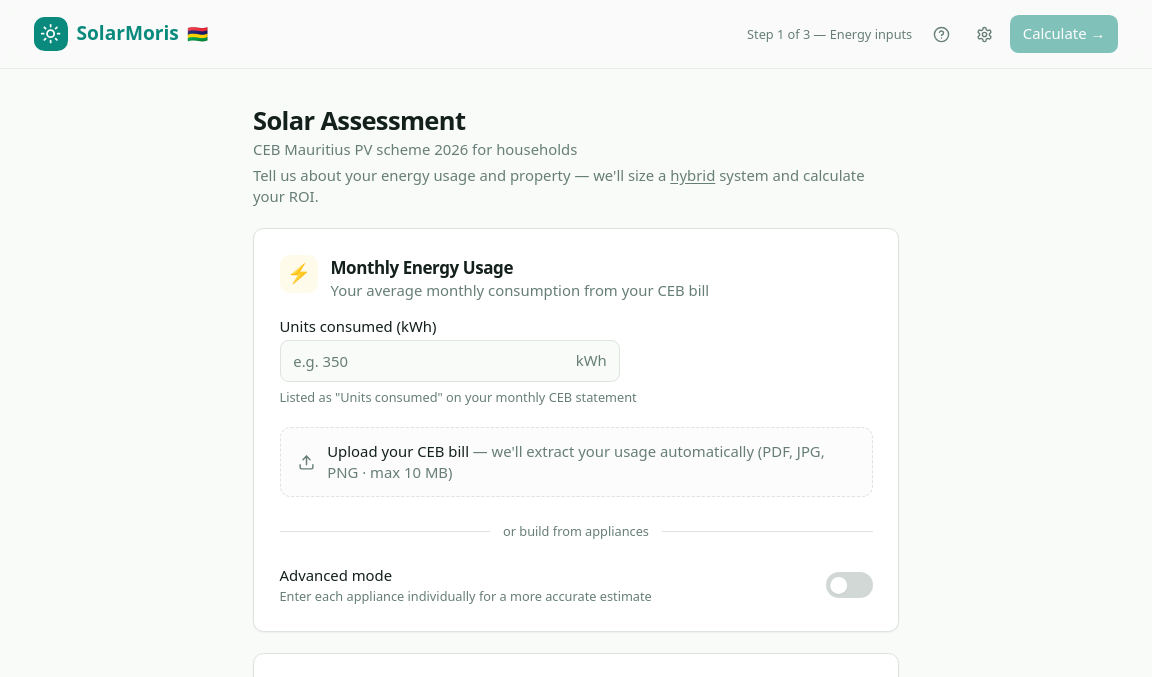
Test: DashboardPage — API error handling › shows a calculation error message when api.calculate rejects
Type "350" into the number field labelled "Units consumed (kWh)". click: (450, 361)
box: [280,340,620,382]
(page scrolled)
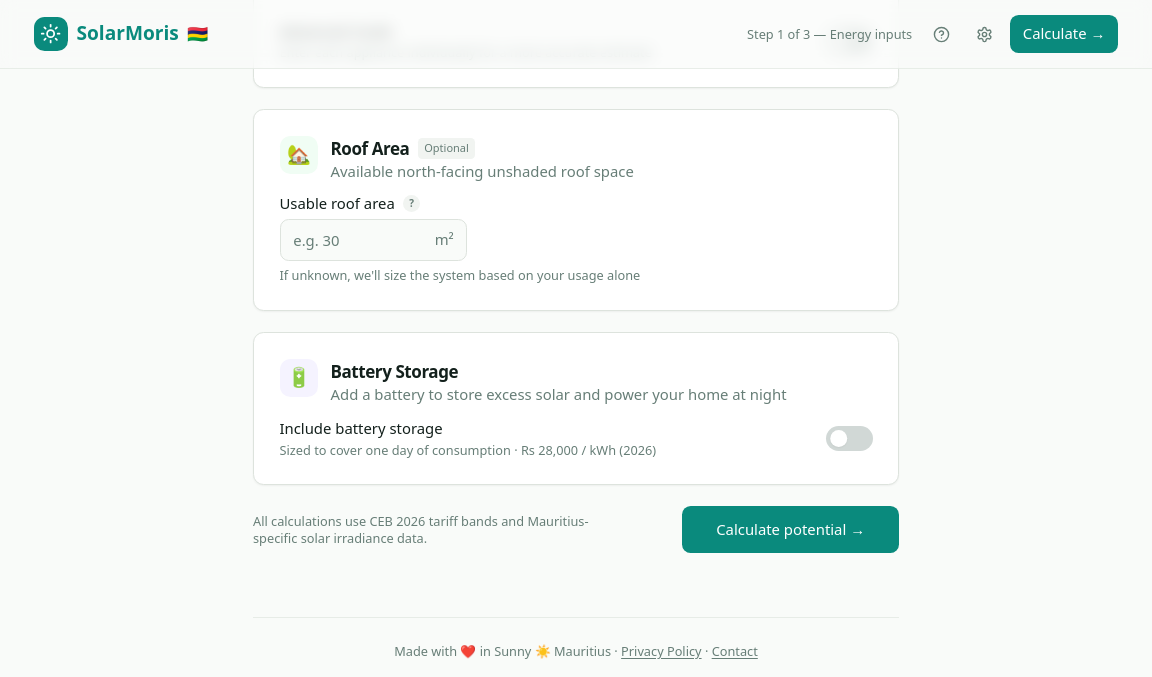
Click the button "Calculate potential →". click: click(791, 530)
box: [682,506,899,553]
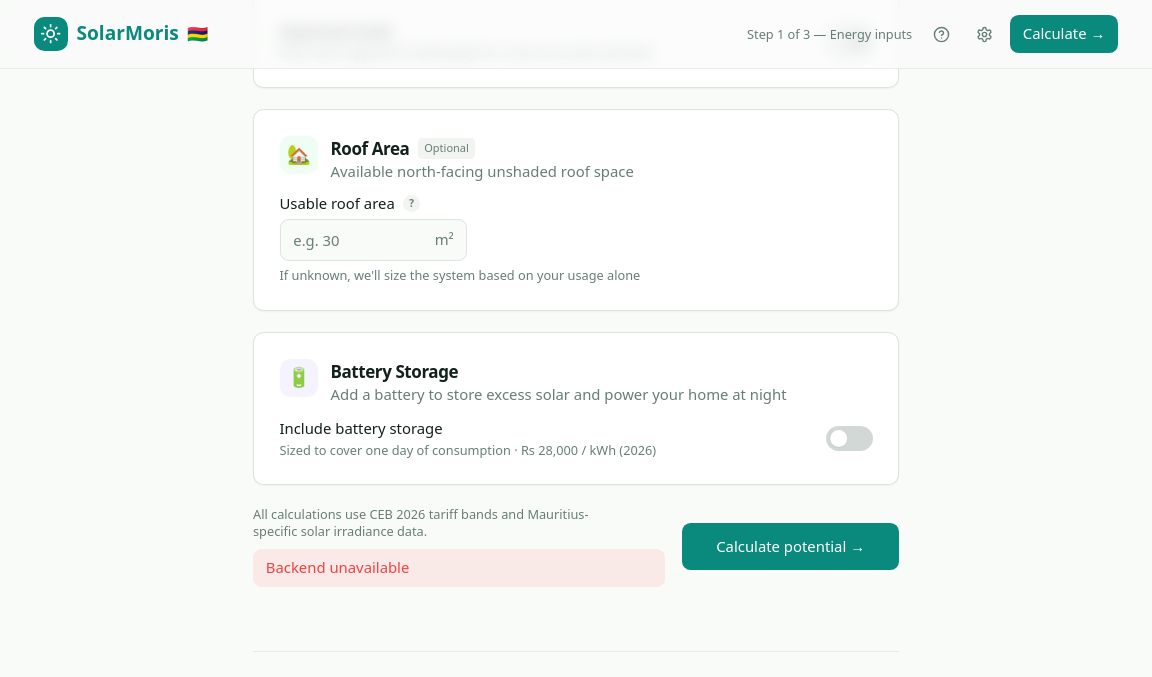
Expected: the text "Backend unavailable" is shown, [253,549,665,587]
